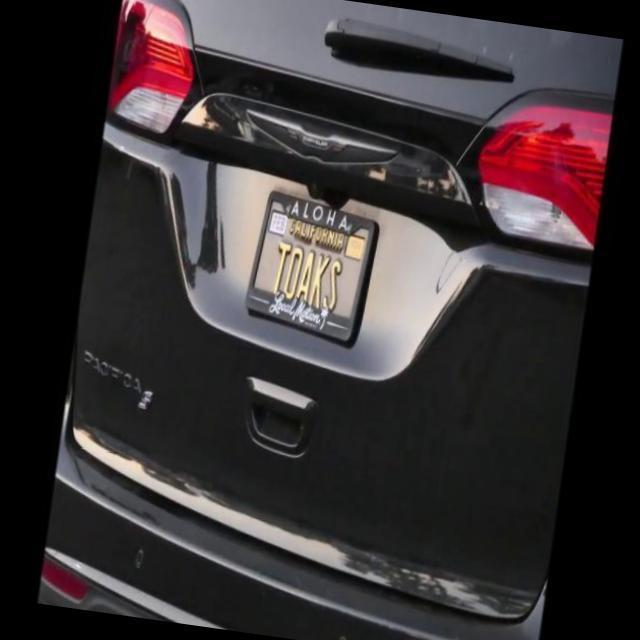License Plate: (229, 166, 395, 370)
